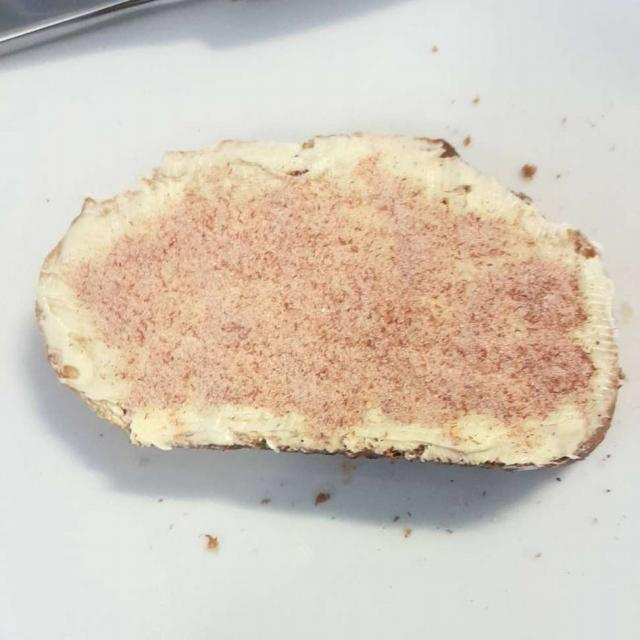bread: (50, 141, 608, 463)
